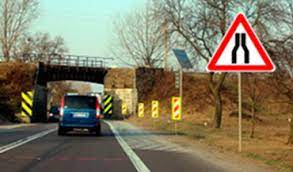1.18.1: (205, 14, 273, 69)
